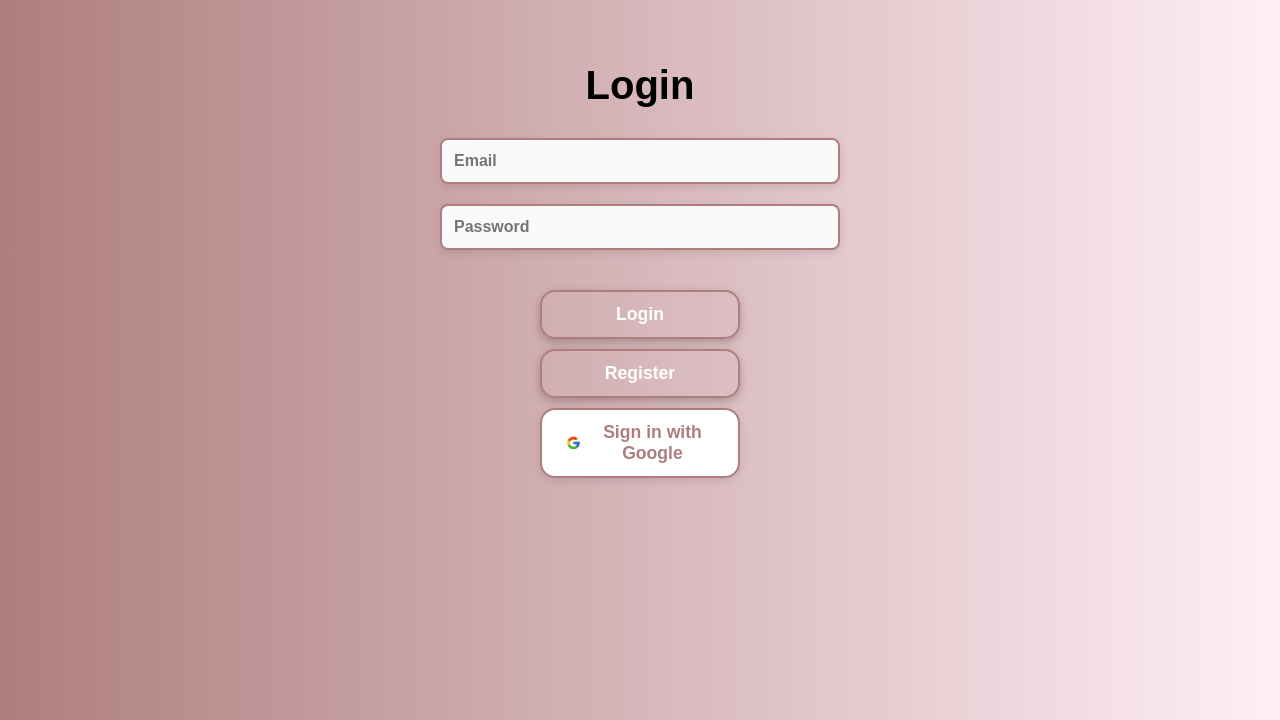
Login Component › displays error message when password login fails
Type "testuser@gmail.com" into the field with placeholder "Email" at (640, 160), box top-left (440, 138), bottom-right (840, 184)
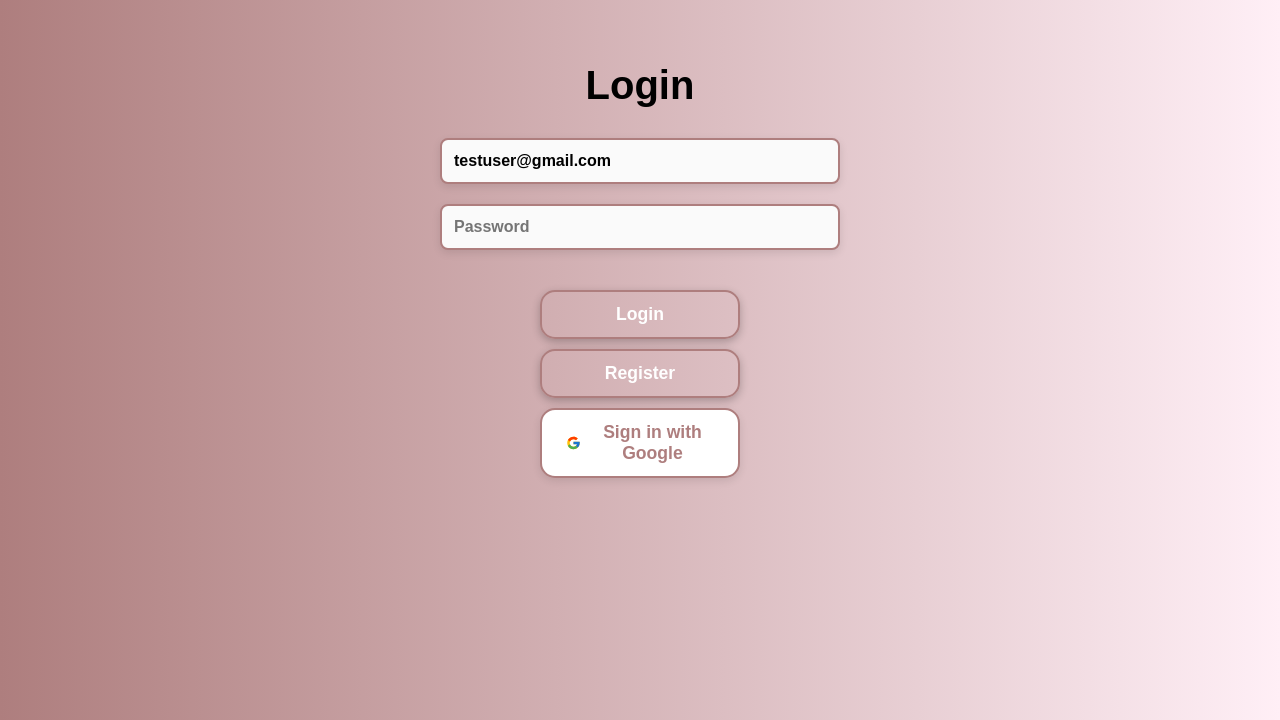
Type "wrongpassword" into the password field with placeholder "Password" at (640, 226), box top-left (440, 204), bottom-right (840, 250)
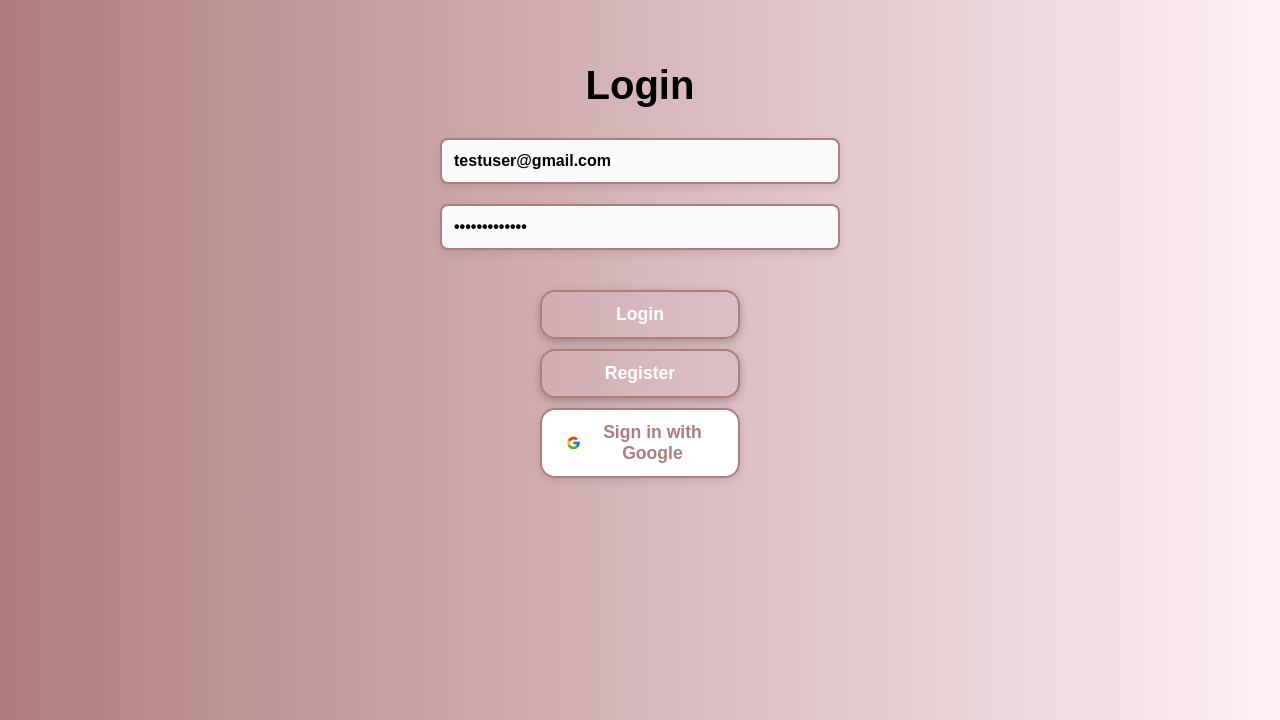
Click the button "Login" at (640, 314), box top-left (540, 290), bottom-right (740, 338)
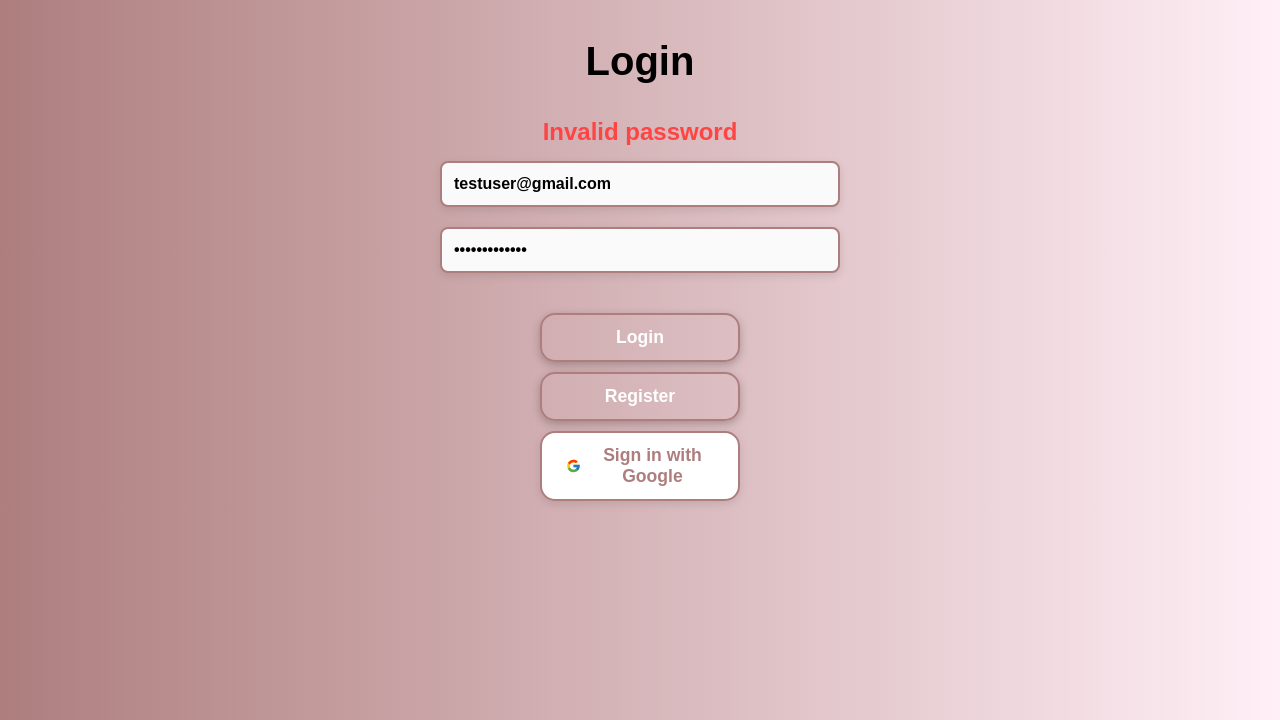
Now the text "Invalid password" is shown, box top-left (543, 118), bottom-right (737, 146)
